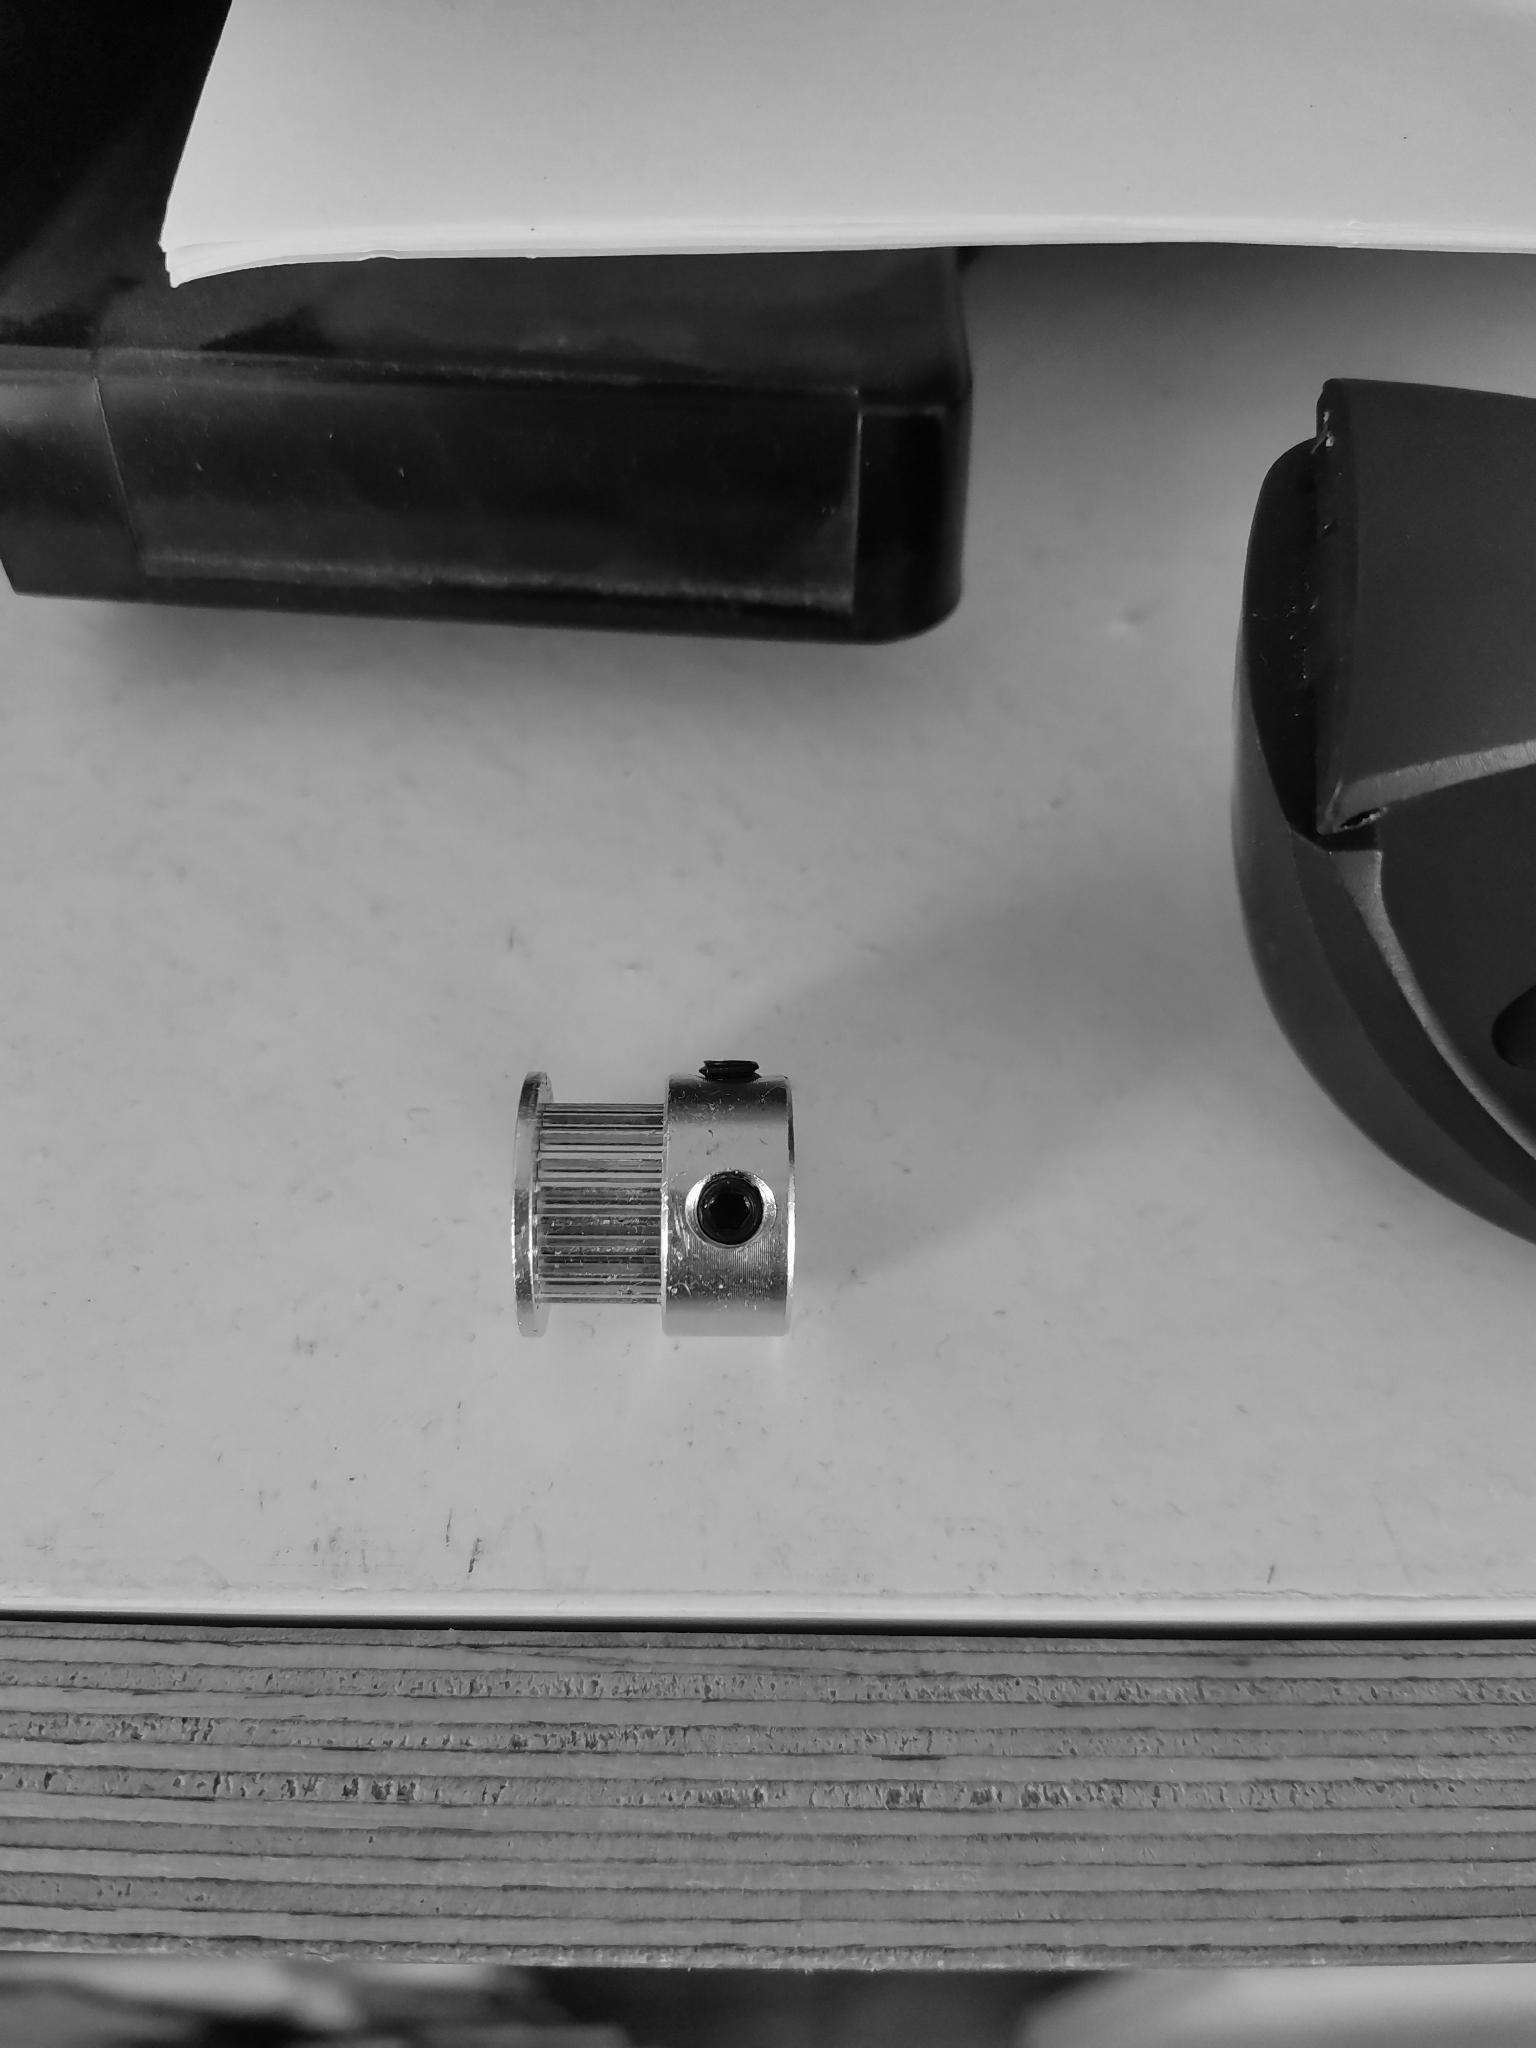screw: (686, 1174, 765, 1250)
